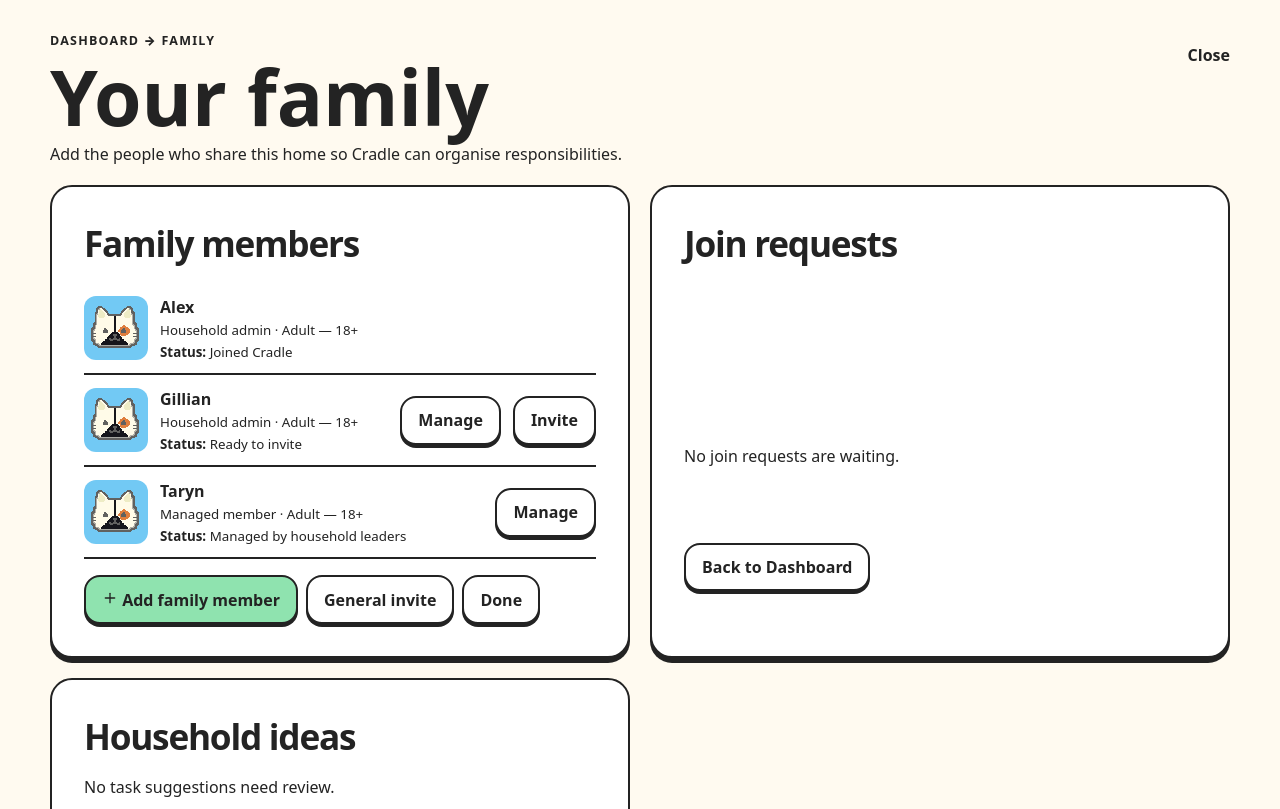
Test: family and personal user journeys › gives an added Member Invite, Add another, Invite later and Done outcomes
The width and height of the screenshot is (1280, 809).
Click the button "Add family member".
click(191, 600)  # box [84, 575, 298, 624]
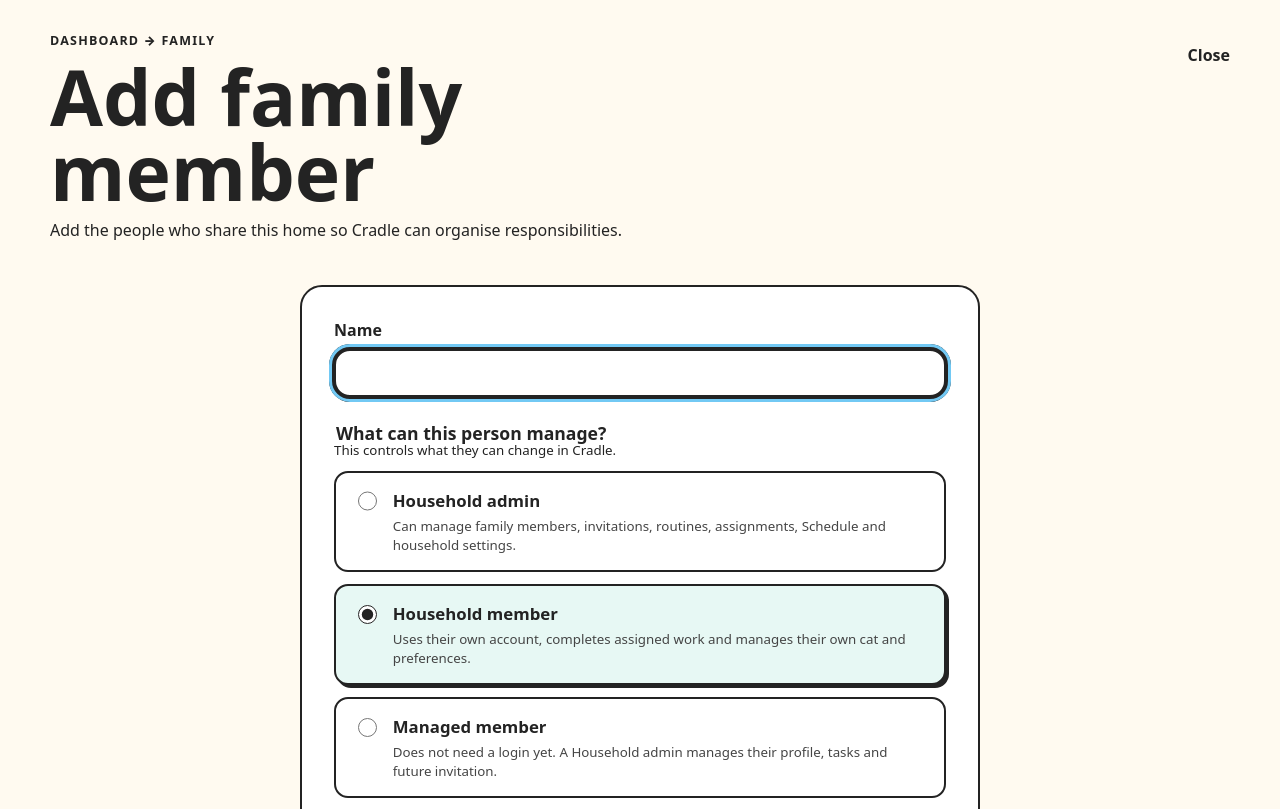
Type "Gillian" into the field labelled "Name".
click(640, 373); type("Gillian")  # box [334, 349, 946, 397]
(page scrolled)
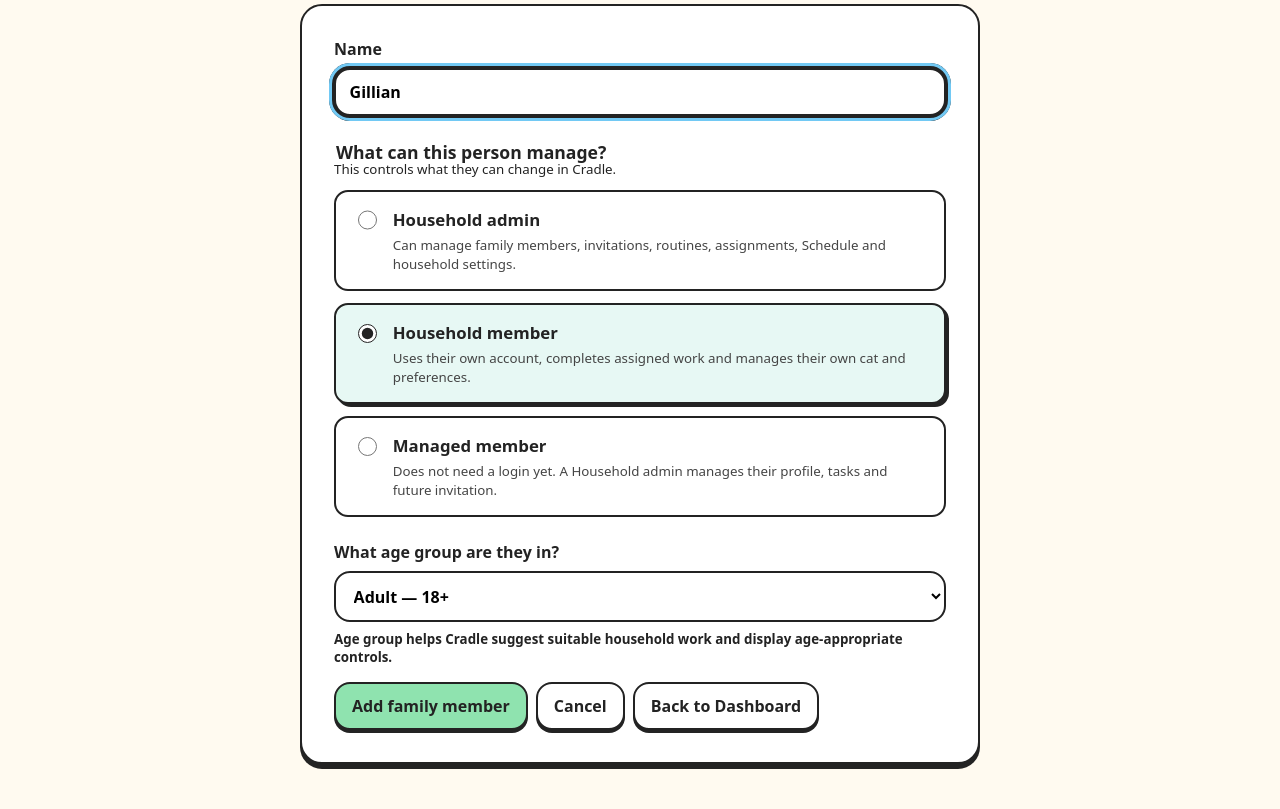
Click the button "Add family member".
click(431, 706)  # box [334, 682, 528, 730]
(page scrolled)
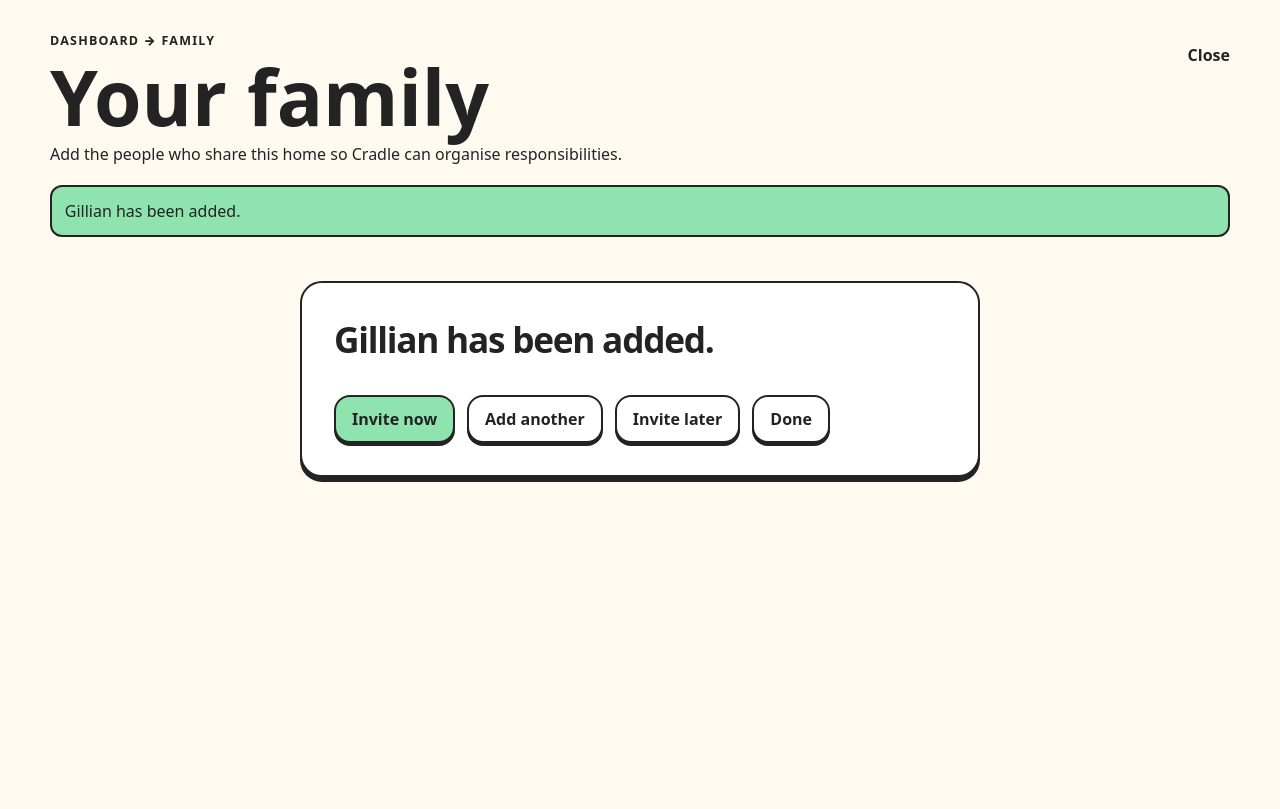
Check: the button "Invite now" is shown, box [334, 395, 455, 443]
Check: the button "Add another" is shown, box [467, 395, 603, 443]
Check: the button "Invite later" is shown, box [615, 395, 740, 443]
